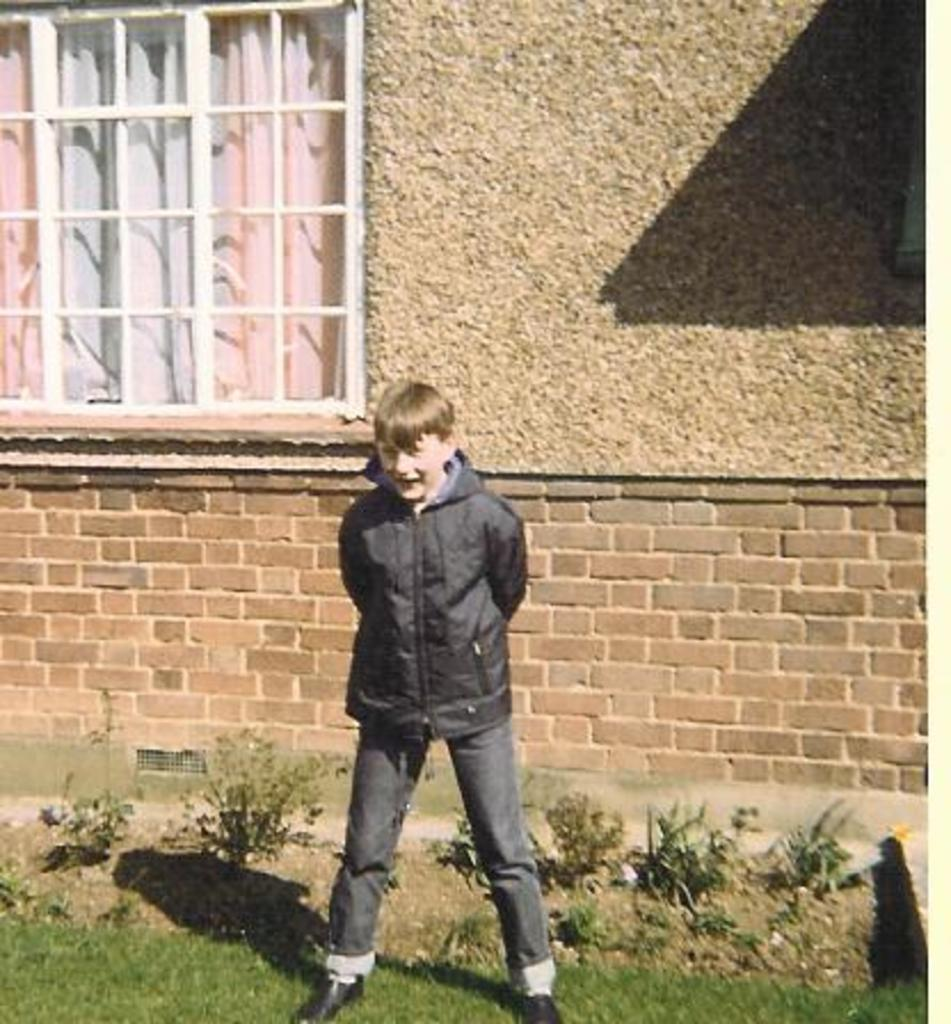Window: (2, 0, 373, 478)
